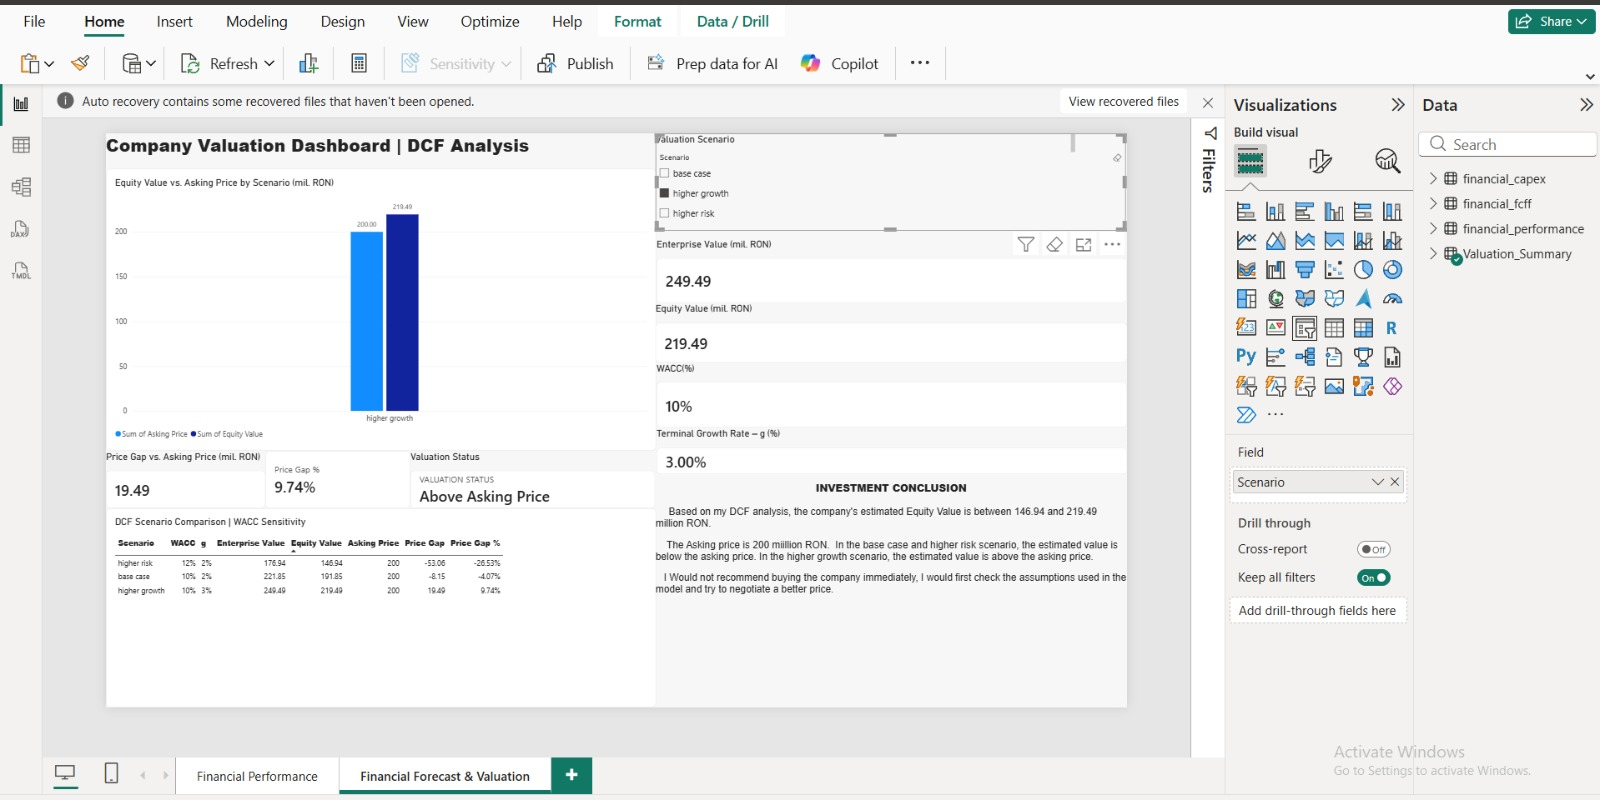

What the dashboard file says about the page in this screenshot:
{"tool":"powerbi","page":{"name":"Financial Forecast & Valuation","canvas":[1920,1080],"ordinal":1},"visuals":[{"type":"textbox","box":[0,0,1822.4,46.9],"z":0},{"type":"clusteredColumnChart","title":"Equity Value vs. Asking Price by Scenario (mil. RON)","fields":{"Category":["Valuation_Summary.Scenario"],"Y":["Sum(Valuation_Summary.Asking Price)","Sum(Valuation_Summary.Equity Value)"]},"box":[0,67.3,1034.7,530.6],"z":1000},{"type":"slicer","title":"Valuation Scenario","fields":{"Values":["Valuation_Summary.Scenario"]},"box":[1032.6,0,884.8,182.6],"z":2000},{"type":"cardVisual","title":"Enterprise Value (mil. RON)","fields":{"Data":["Sum(Valuation_Summary.Enterprise Value)"]},"box":[1034.8,197.8,884.8,121.7],"z":3000},{"type":"cardVisual","title":"Equity Value (mil. RON)","fields":{"Data":["Sum(Valuation_Summary.Equity Value)"]},"box":[1032.6,319.6,887.8,112.2],"z":4000},{"type":"cardVisual","title":"Price Gap vs. Asking Price (mil. RON)","fields":{"Data":["Valuation_Summary.Price Gap"]},"box":[0,598,300,108],"z":5000},{"type":"cardVisual","fields":{"Data":["Valuation_Summary.Price Gap %"]},"box":[300,598,272,108],"z":6000},{"type":"cardVisual","title":"WACC(%)","fields":{"Data":["Sum(Valuation_Summary.WACC)"]},"box":[1034.8,430.4,885.7,122.4],"z":7000},{"type":"cardVisual","title":"Terminal Growth Rate – g (%)","fields":{"Data":["Sum(Valuation_Summary.g)"]},"box":[1034.8,554.3,885.7,87.8],"z":8000},{"type":"cardVisual","title":"Valuation Status","fields":{"Data":["Valuation_Summary.VALUATION STATUS"]},"box":[572,598,460,108],"z":9000},{"type":"tableEx","title":"DCF Scenario Comparison | WACC Sensitivity","fields":{"Values":["Valuation_Summary.Scenario","Sum(Valuation_Summary.WACC)","Sum(Valuation_Summary.g)","Sum(Valuation_Summary.Enterprise Value)","Sum(Valuation_Summary.Equity Value)","Sum(Valuation_Summary.Asking Price)","Valuation_Summary.Price Gap","Valuation_Summary.Price Gap %"]},"box":[0,706,1034,374],"z":10000},{"type":"textbox","box":[1034,652,886,428],"z":10001}]}

Visuals, with their boxes on the page's 1920x1080 design canvas (x1, y1, x2, y2). These are canvas units, not pixel positions in the 1600x800 screenshot, which may show the page scaled, cropped or inside an application window:
textbox: 0 0 1822 47
"Equity Value vs. Asking Price by Scenario (mil. RON)" clusteredColumnChart: 0 67 1035 598
"Valuation Scenario" slicer: 1033 0 1917 183
"Enterprise Value (mil. RON)" cardVisual: 1035 198 1920 320
"Equity Value (mil. RON)" cardVisual: 1033 320 1920 432
"Price Gap vs. Asking Price (mil. RON)" cardVisual: 0 598 300 706
cardVisual - Valuation_Summary.Price Gap %: 300 598 572 706
"WACC(%)" cardVisual: 1035 430 1920 553
"Terminal Growth Rate – g (%)" cardVisual: 1035 554 1920 642
"Valuation Status" cardVisual: 572 598 1032 706
"DCF Scenario Comparison | WACC Sensitivity" tableEx: 0 706 1034 1080
textbox: 1034 652 1920 1080
